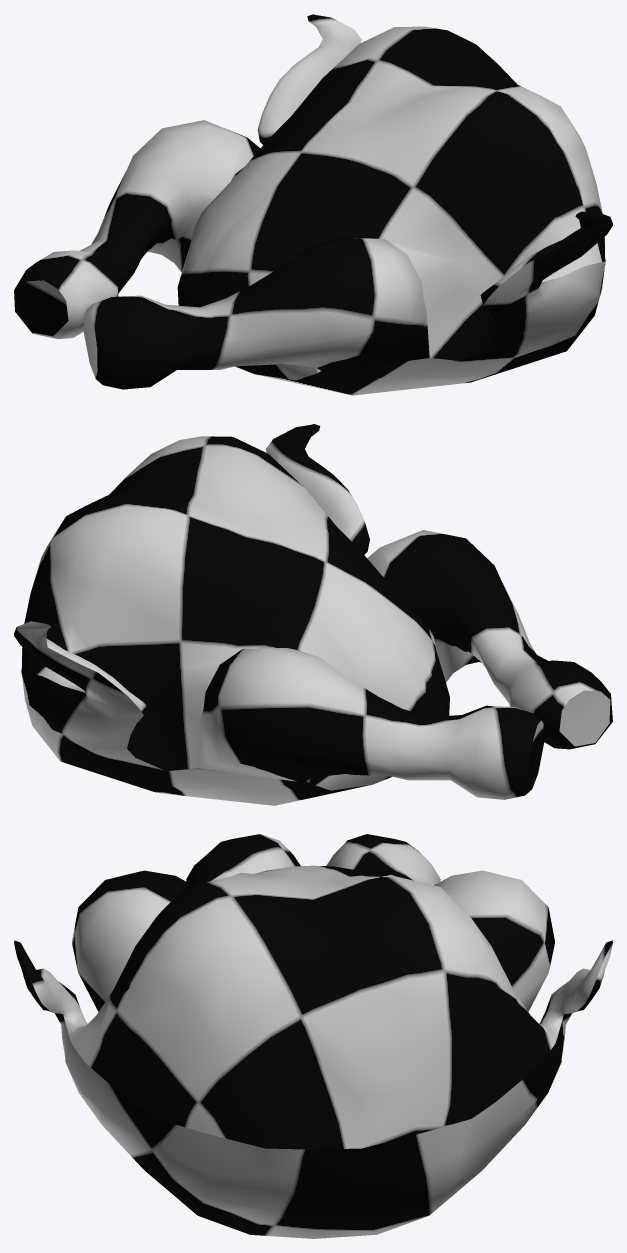
File: turkey.obj
3 views of the same model, one above another, from view 1: azimuth 30°, elevation 25°; view 2: azimuth 150°, elevation 25°; view 3: azimuth 270°, elevation 25° (orthographic). The views are drawn at different scales.
Parts seen in each view (by area): view 1: turkey; view 2: turkey; view 3: turkey.
Boxes of the visible parts, <box> form: turkey: <box>14,14,612,395</box>; turkey: <box>14,424,612,805</box>; turkey: <box>14,834,612,1238</box>.
Bounding box in the file's own units: 122 × 66.67 × 110.
Materials: 1 (1 with a texture image).
